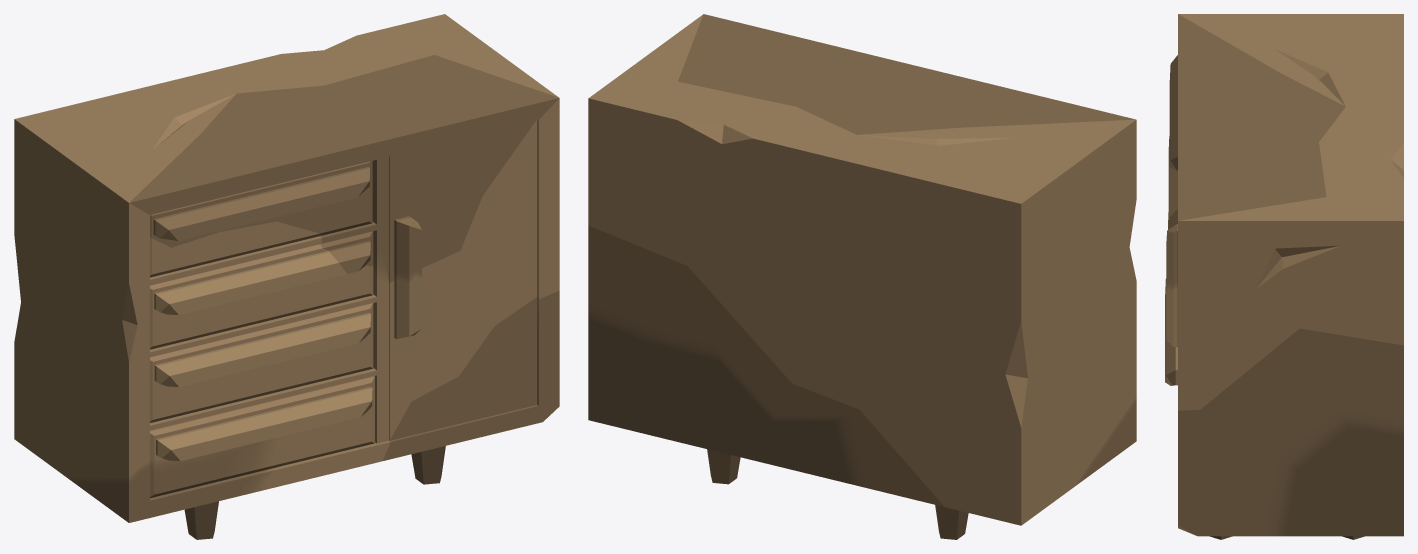
The model's file is SM_Prop_Drawers_02.fbx.
3 views of the same model, side by side, from view 1: azimuth 30°, elevation 25°; view 2: azimuth 150°, elevation 25°; view 3: azimuth 270°, elevation 25° (orthographic). The views are drawn at different scales.
Parts seen in each view (by area): view 1: SM_Prop_Drawers_02; view 2: SM_Prop_Drawers_02; view 3: SM_Prop_Drawers_02.
Boxes of the visible parts, x1,y1,x2,y2 form: SM_Prop_Drawers_02: (14,14,559,539); SM_Prop_Drawers_02: (588,14,1136,539); SM_Prop_Drawers_02: (1165,14,1403,539).
Size of the model in its own units: 138 by 113 by 67.19.
